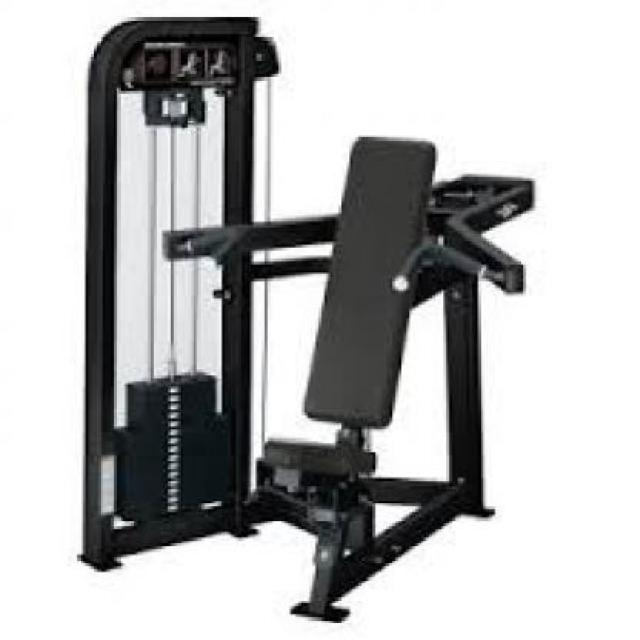shoulder press machine: (74, 8, 546, 630)
